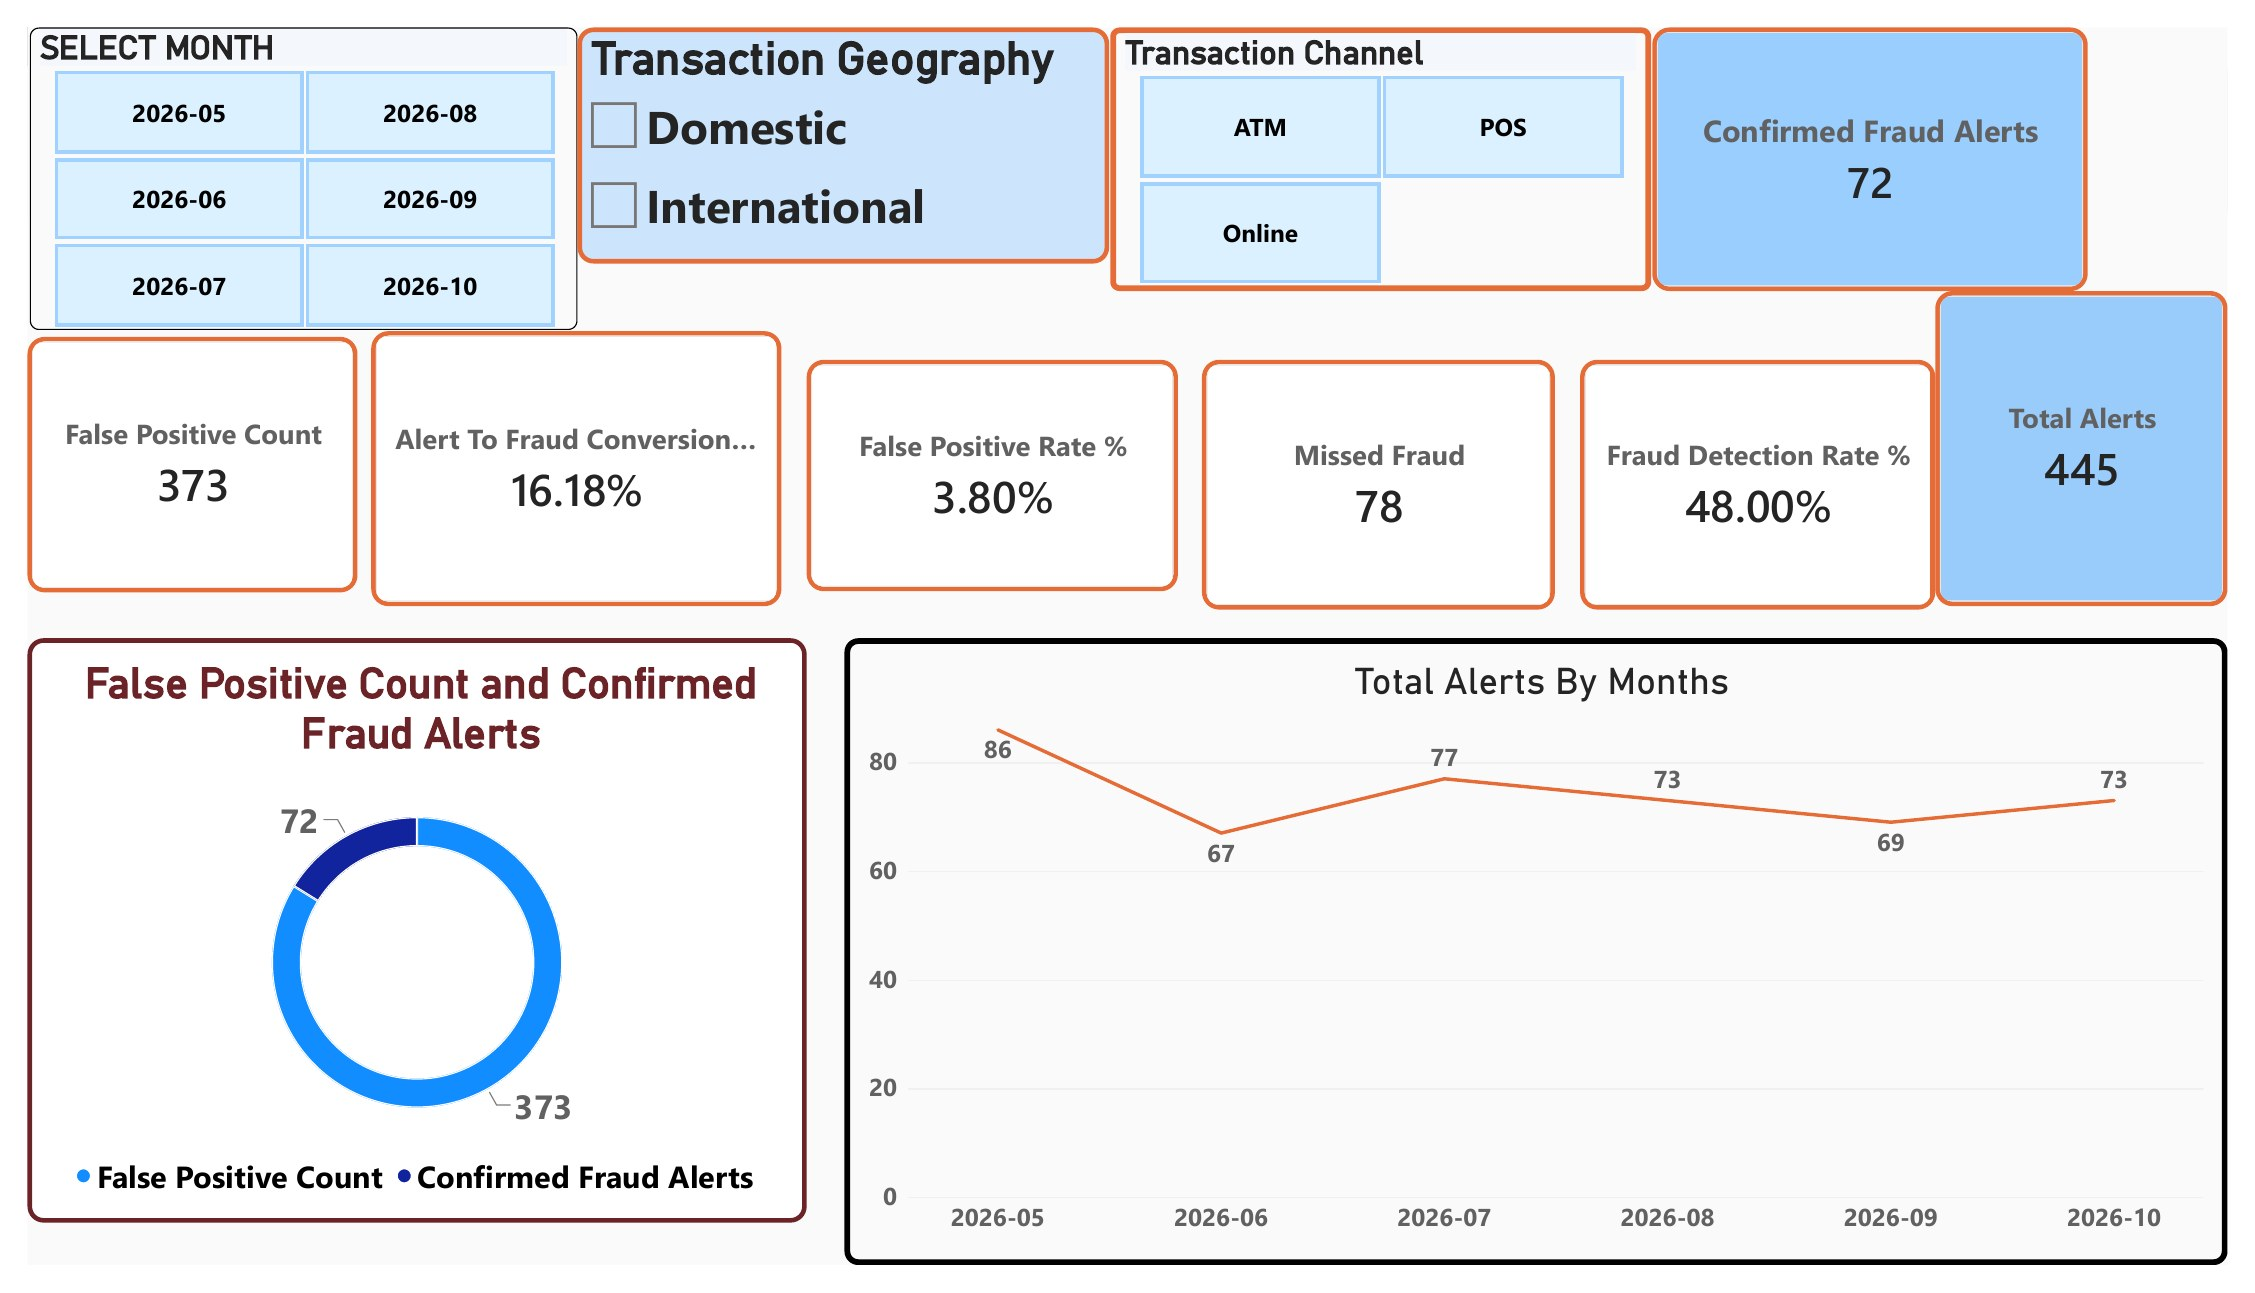

The dashboard page shown, as its layout file describes it:
{"tool":"powerbi","page":{"name":"Fraud Monitoring","canvas":[1920,1080],"ordinal":3},"visuals":[{"type":"cardVisual","fields":{"Data":["cc.Total Alerts"]},"box":[1665,230,255,275],"z":0},{"type":"cardVisual","fields":{"Data":["cc.False Positive Count"]},"box":[0,270,287.5,222.5],"z":1000},{"type":"cardVisual","fields":{"Data":["cc.False Positive Rate %"]},"box":[680,290,324.4,202.4],"z":2000},{"type":"cardVisual","fields":{"Data":["cc.Alert To Fraud Conversion %"]},"box":[300,265,357.5,240],"z":3000},{"type":"cardVisual","fields":{"Data":["cc.Fraud Detection Rate %"]},"box":[1355,290,310,217.5],"z":4000},{"type":"cardVisual","fields":{"Data":["cc.Missed Fraud"]},"box":[1025,290,307.5,217.5],"z":5000},{"type":"donutChart","fields":{"Y":["cc.False Positive Count","cc.Confirmed Fraud Alerts"]},"box":[0,532.5,680,510],"z":6000},{"type":"lineChart","title":"Total Alerts By Months","fields":{"Category":["cc.Txn_Month"],"Y":["cc.Total Alerts"]},"box":[712.5,532.5,1207.5,547.5],"z":7000},{"type":"slicer","fields":{"Values":["cc.Txn_Month"]},"box":[2,0,478.4,264.5],"z":8000},{"type":"slicer","fields":{"Values":["cc.Transaction_Channel"]},"box":[945,0,471.7,230],"z":9000},{"type":"slicer","fields":{"Values":["cc.Domestic_International_Flag"]},"box":[480,0,464,206],"z":10000},{"type":"cardVisual","fields":{"Data":["cc.Confirmed Fraud Alerts"]},"box":[1417.5,0,380,230],"z":11000}]}

Visuals, with their boxes in screenshot pixels (x1, y1, x2, y2), scaled from the page's 1920x1080 canvas onto the 2255x1293 screenshot:
cardVisual - cc.Total Alerts: x1=1956, y1=275, x2=2254, y2=605
cardVisual - cc.False Positive Count: x1=0, y1=323, x2=338, y2=590
cardVisual - cc.False Positive Rate %: x1=799, y1=347, x2=1180, y2=590
cardVisual - cc.Alert To Fraud Conversion %: x1=352, y1=317, x2=772, y2=605
cardVisual - cc.Fraud Detection Rate %: x1=1591, y1=347, x2=1956, y2=608
cardVisual - cc.Missed Fraud: x1=1204, y1=347, x2=1565, y2=608
donutChart - cc.False Positive Count x cc.Confirmed Fraud Alerts: x1=0, y1=638, x2=799, y2=1248
"Total Alerts By Months" lineChart: x1=837, y1=638, x2=2254, y2=1292
slicer - cc.Txn_Month: x1=2, y1=0, x2=564, y2=317
slicer - cc.Transaction_Channel: x1=1110, y1=0, x2=1664, y2=275
slicer - cc.Domestic_International_Flag: x1=564, y1=0, x2=1109, y2=247
cardVisual - cc.Confirmed Fraud Alerts: x1=1665, y1=0, x2=2111, y2=275
